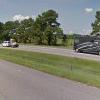Tree: (12, 9, 68, 50)
